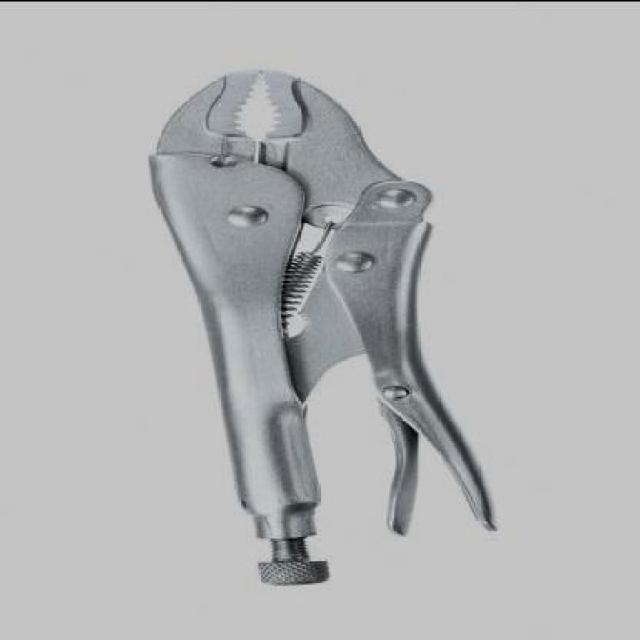pliers: (138, 69, 504, 592)
